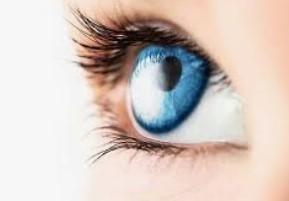eye: (130, 43, 207, 134)
